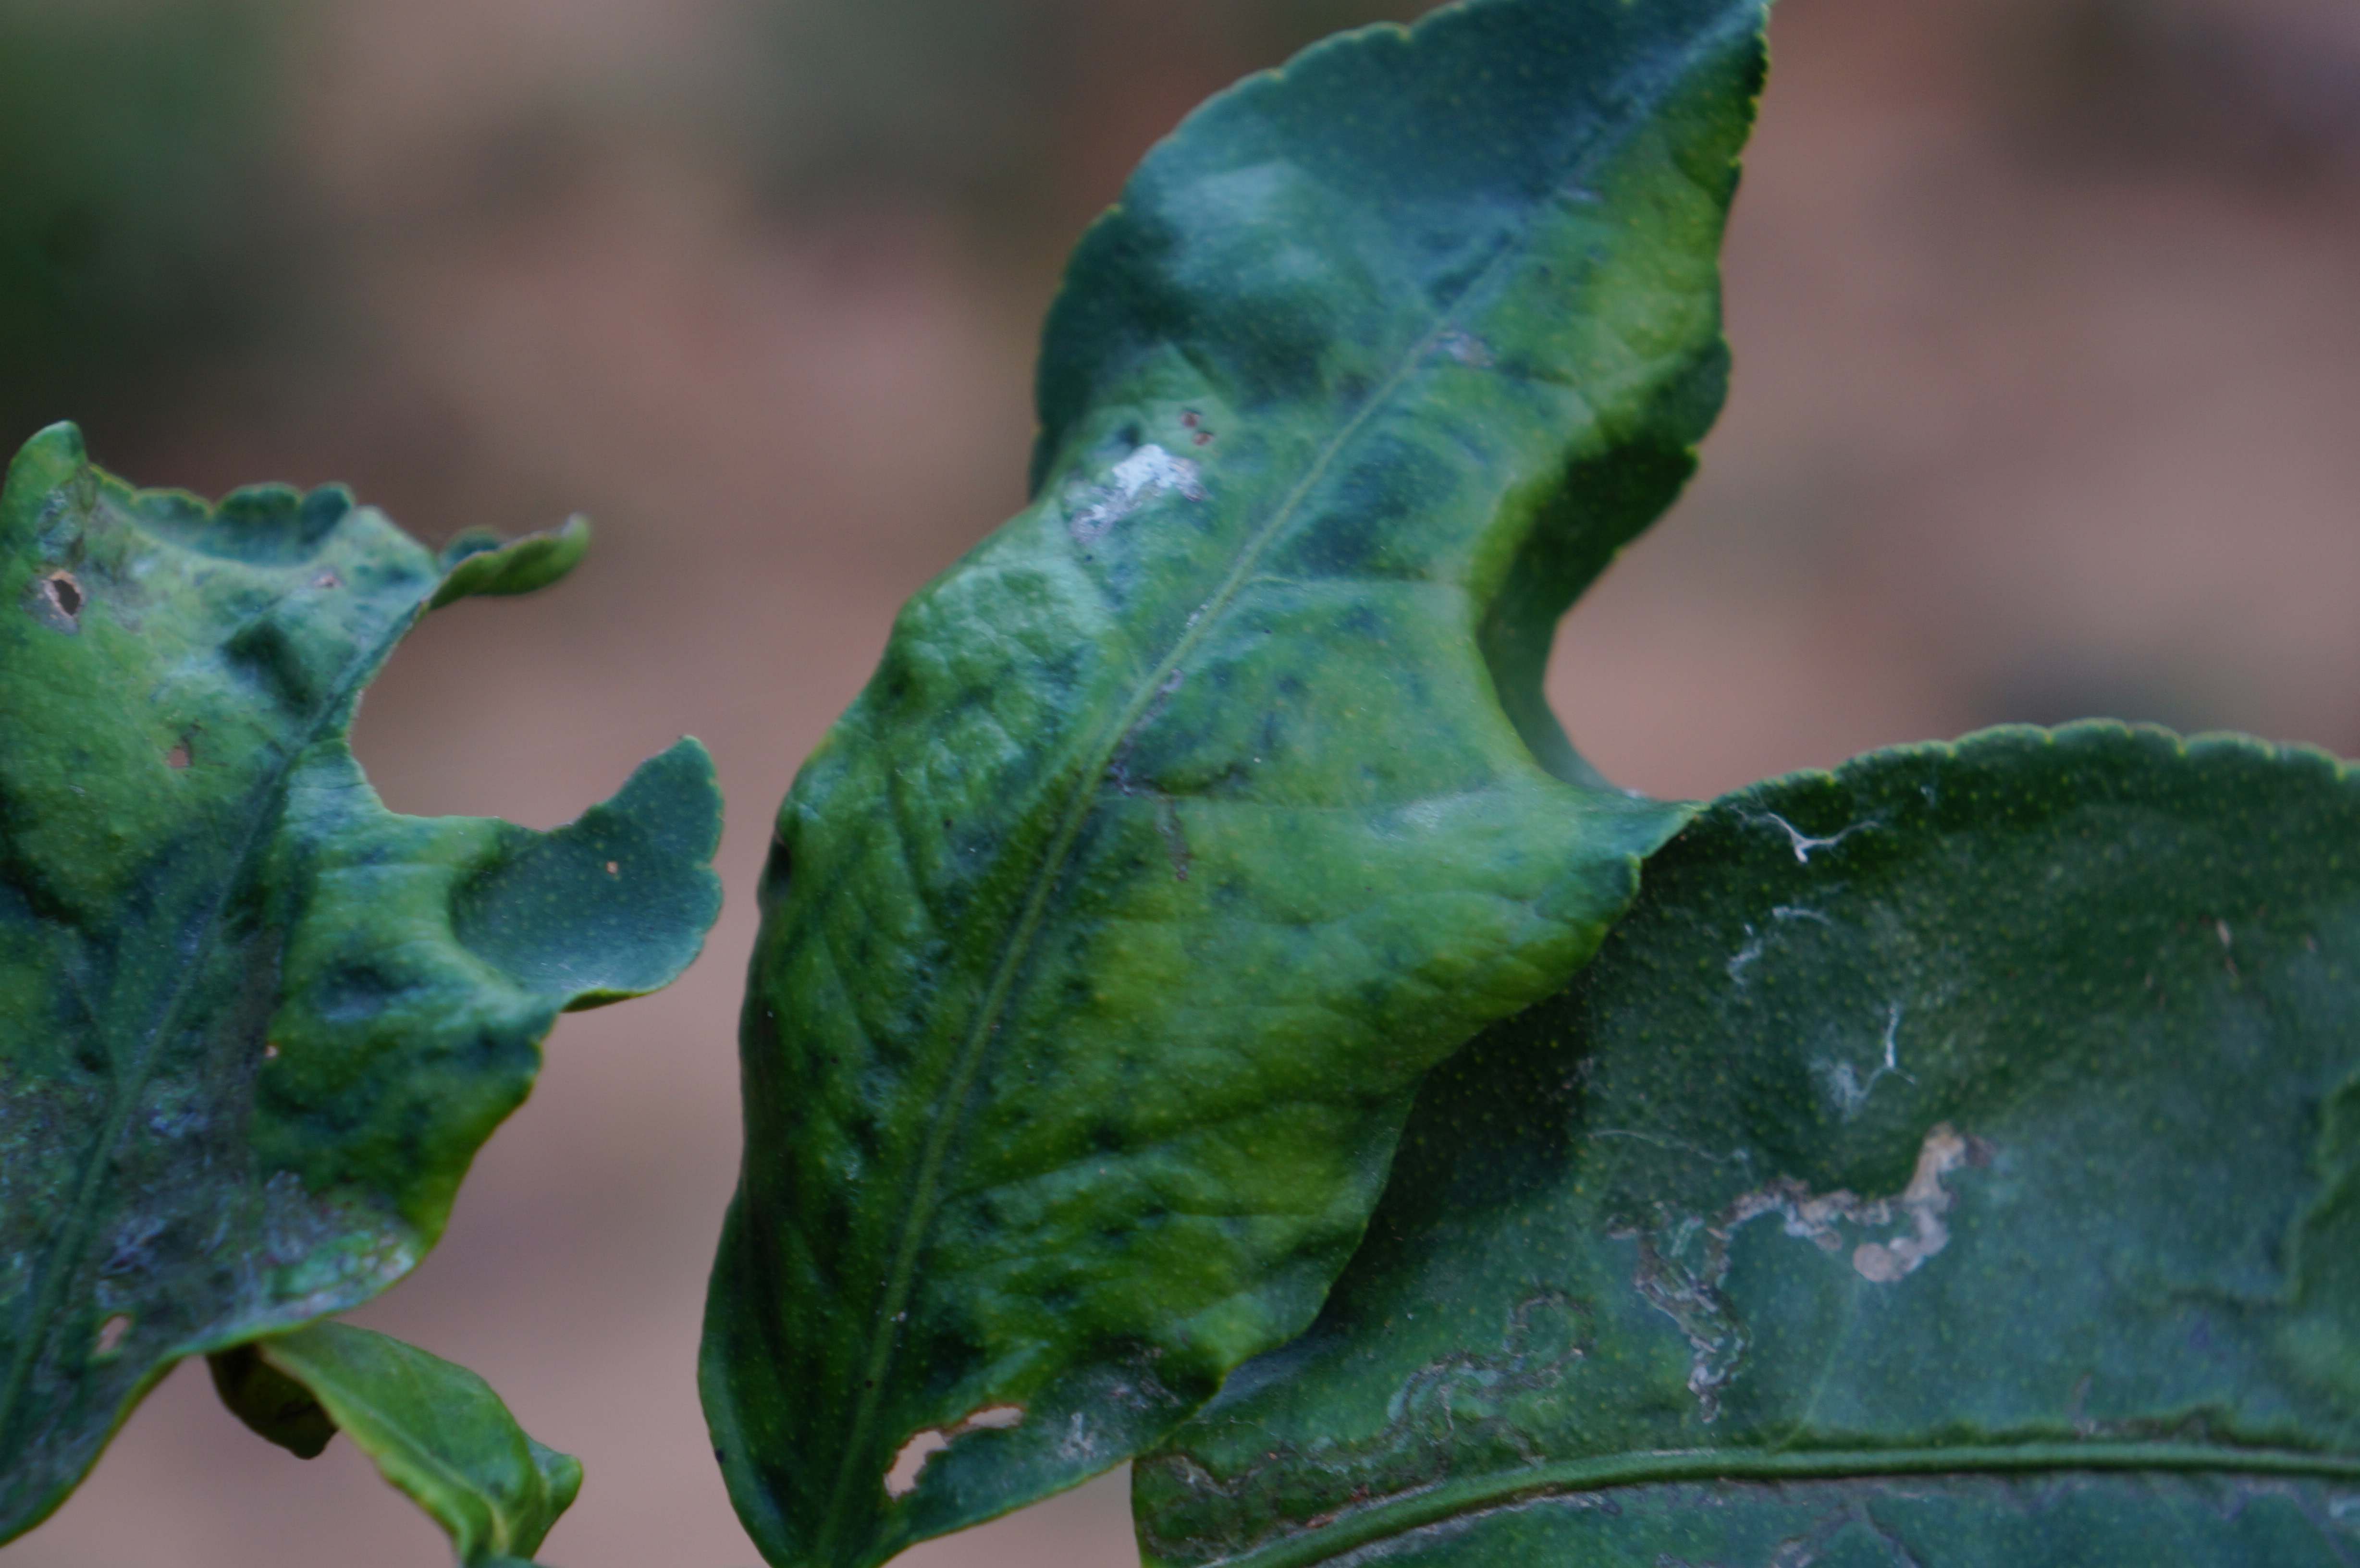curly: (0, 376, 742, 1556)
damage: (1627, 1067, 2042, 1438), (1156, 1253, 1608, 1568), (1032, 362, 1279, 644)
